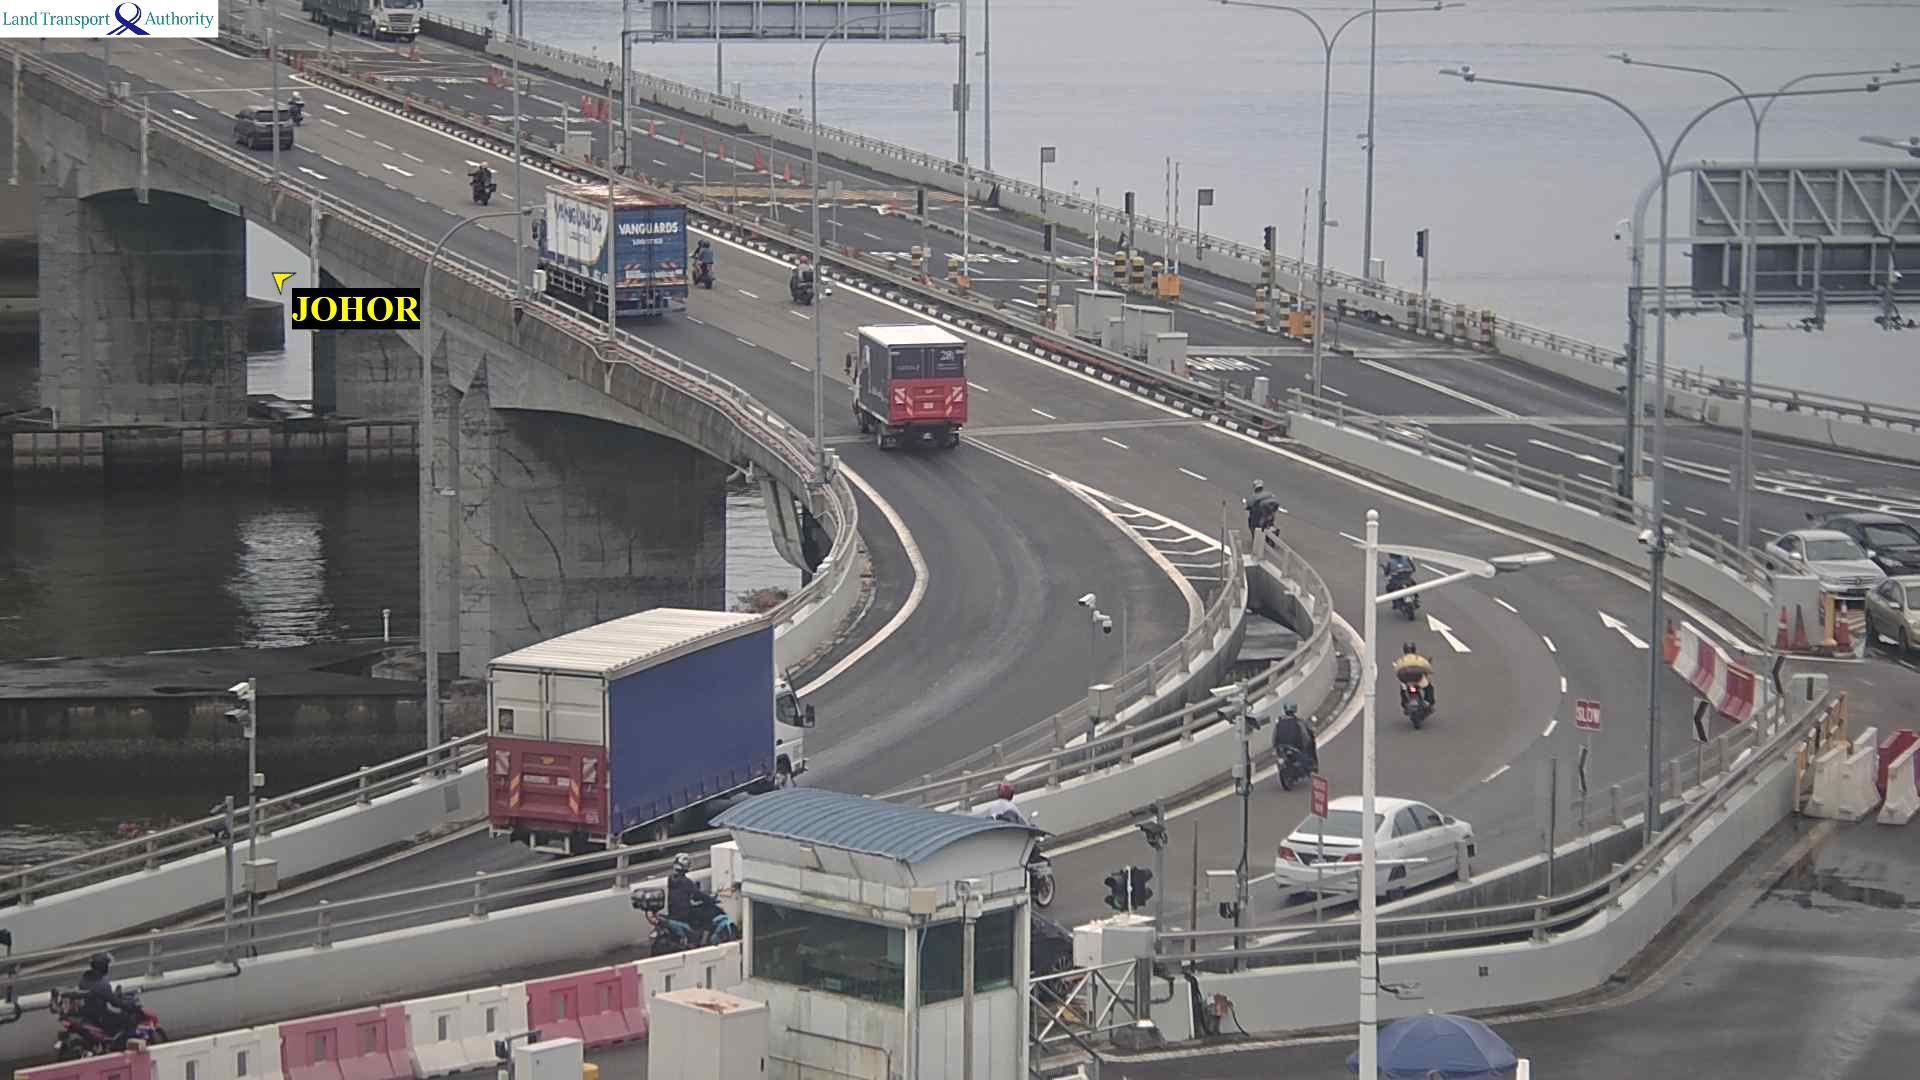vehicle-secondlink-johor: (488, 609, 816, 852), (532, 184, 687, 317), (1289, 797, 1483, 897), (846, 320, 976, 452), (42, 962, 161, 1057), (981, 784, 1056, 906), (634, 862, 726, 952), (1265, 706, 1327, 793), (1404, 645, 1446, 736), (1389, 643, 1435, 726), (1375, 552, 1420, 621), (235, 102, 292, 148), (1246, 481, 1283, 535), (692, 238, 714, 291), (790, 255, 813, 303), (470, 160, 495, 203), (290, 92, 304, 125)
vehicle-secondlink-singapore: (1765, 529, 1883, 598), (1807, 511, 1920, 576), (304, 0, 420, 44), (1866, 575, 1920, 653)
